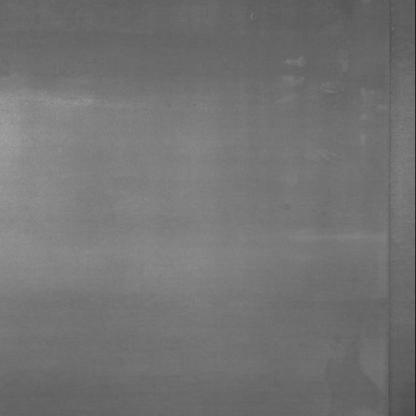welding_line: (374, 0, 408, 413)
